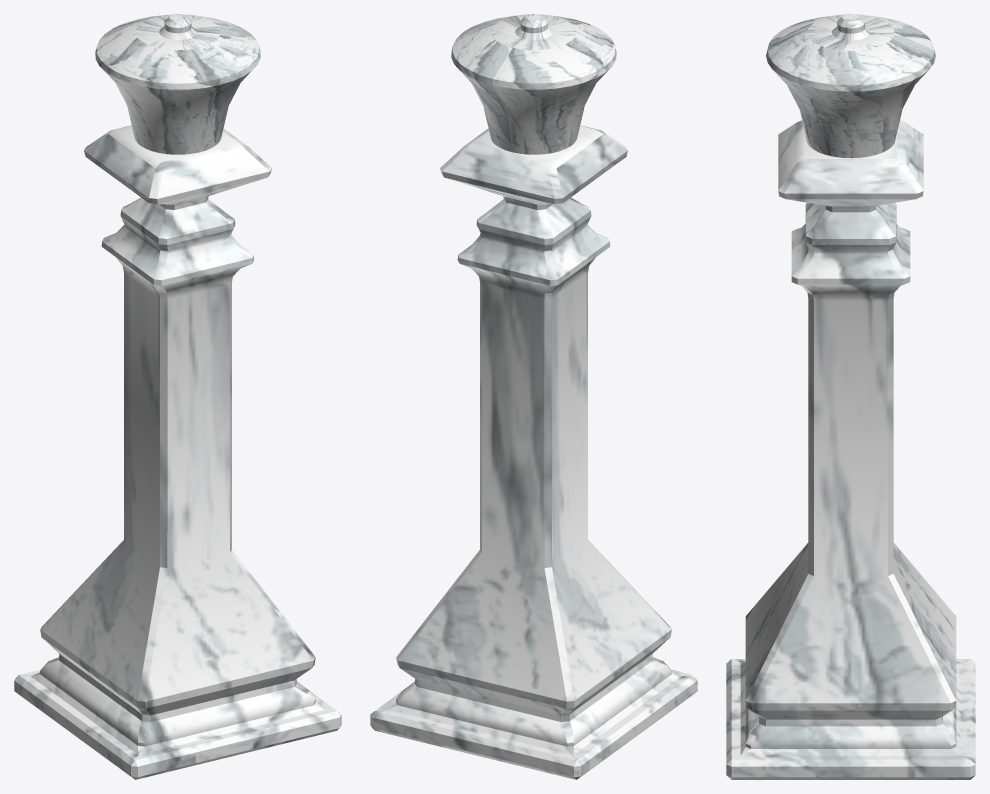
Rendered from chess_queen_01-white.glb.
The picture shows the model from 3 angles, left to right: view 1: azimuth 30°, elevation 25°; view 2: azimuth 150°, elevation 25°; view 3: azimuth 270°, elevation 25°; orthographic projection. The views are drawn at different scales.
Parts seen in each view (by area): view 1: queen_01; view 2: queen_01; view 3: queen_01.
Boxes of the visible parts, x1,y1,x2,y2 form: queen_01: [14, 14, 341, 779]; queen_01: [370, 14, 697, 779]; queen_01: [726, 14, 975, 779].
Size of the model in its own units: 0.5712 by 1.8 by 0.5712.
Materials: 1 (1 with a texture image).
